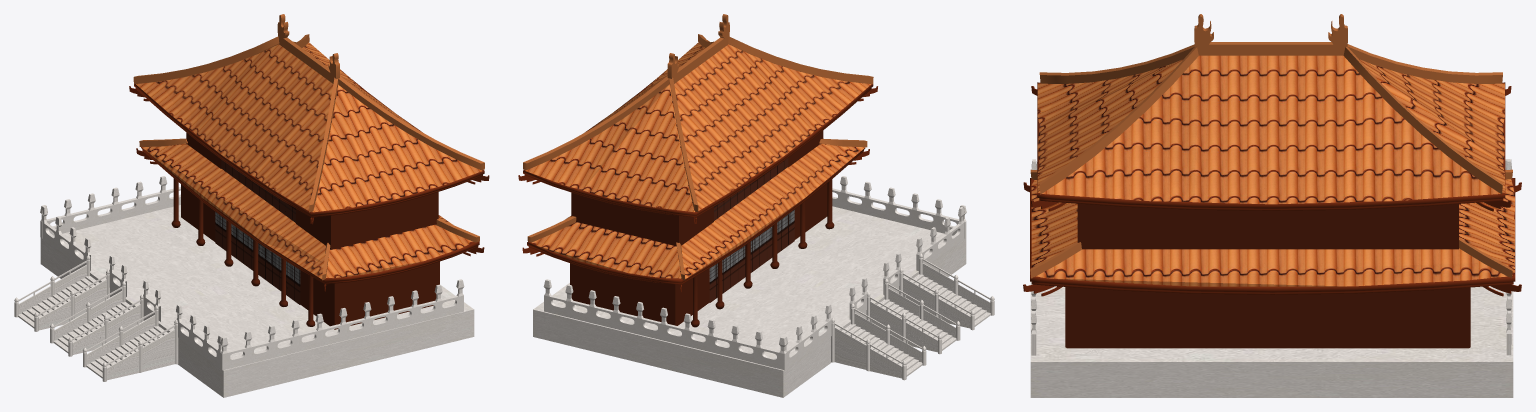
The model's file is houdian3.FBX.
The picture shows the model from 3 angles, left to right: view 1: azimuth 30°, elevation 25°; view 2: azimuth 150°, elevation 25°; view 3: azimuth 270°, elevation 25°; orthographic projection. The views are drawn at different scales.
Parts seen in each view (by area): view 1: Arc2812; view 2: Arc2812; view 3: Arc2812.
Part boxes in pixels (x1,y1,x2,y2): Arc2812: [14, 14, 489, 397]; Arc2812: [518, 14, 994, 397]; Arc2812: [1023, 14, 1521, 397].
Size of the model in its own units: 352 by 251 by 338.
10 materials, 7 textured.
